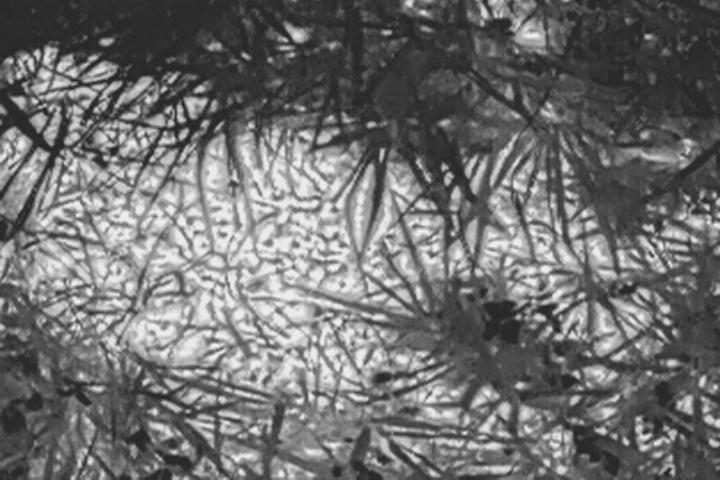landmine: (0, 73, 451, 383)
